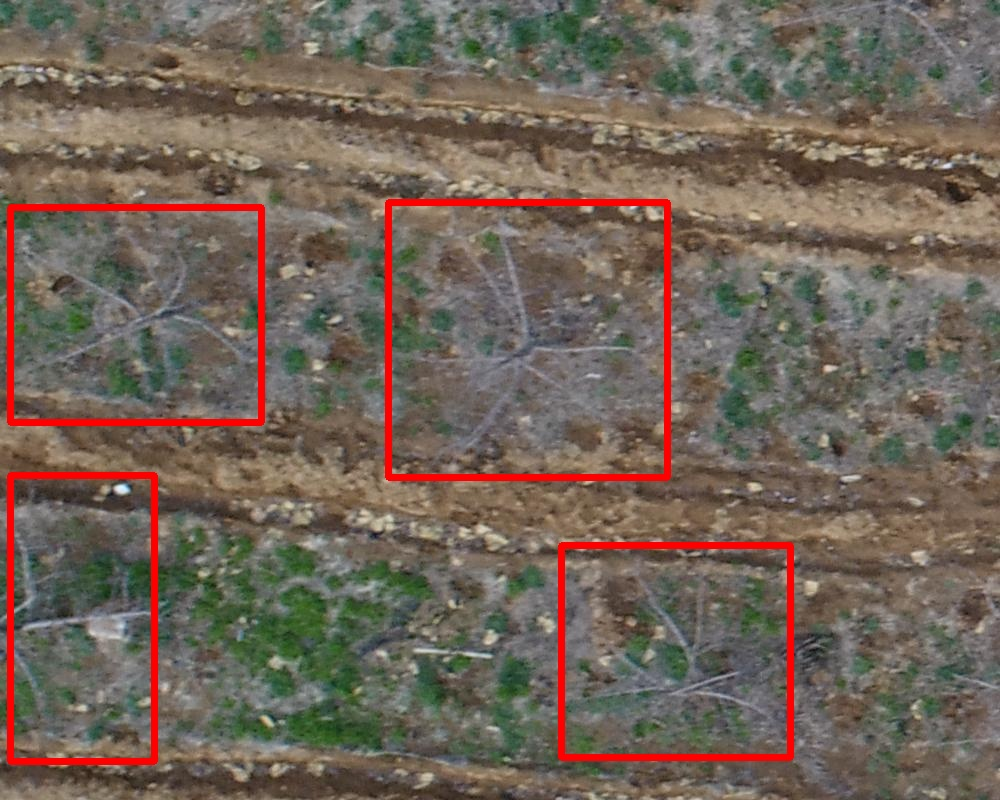apple: (388, 202, 667, 477), (10, 207, 261, 422), (561, 545, 790, 757), (10, 475, 154, 761)
